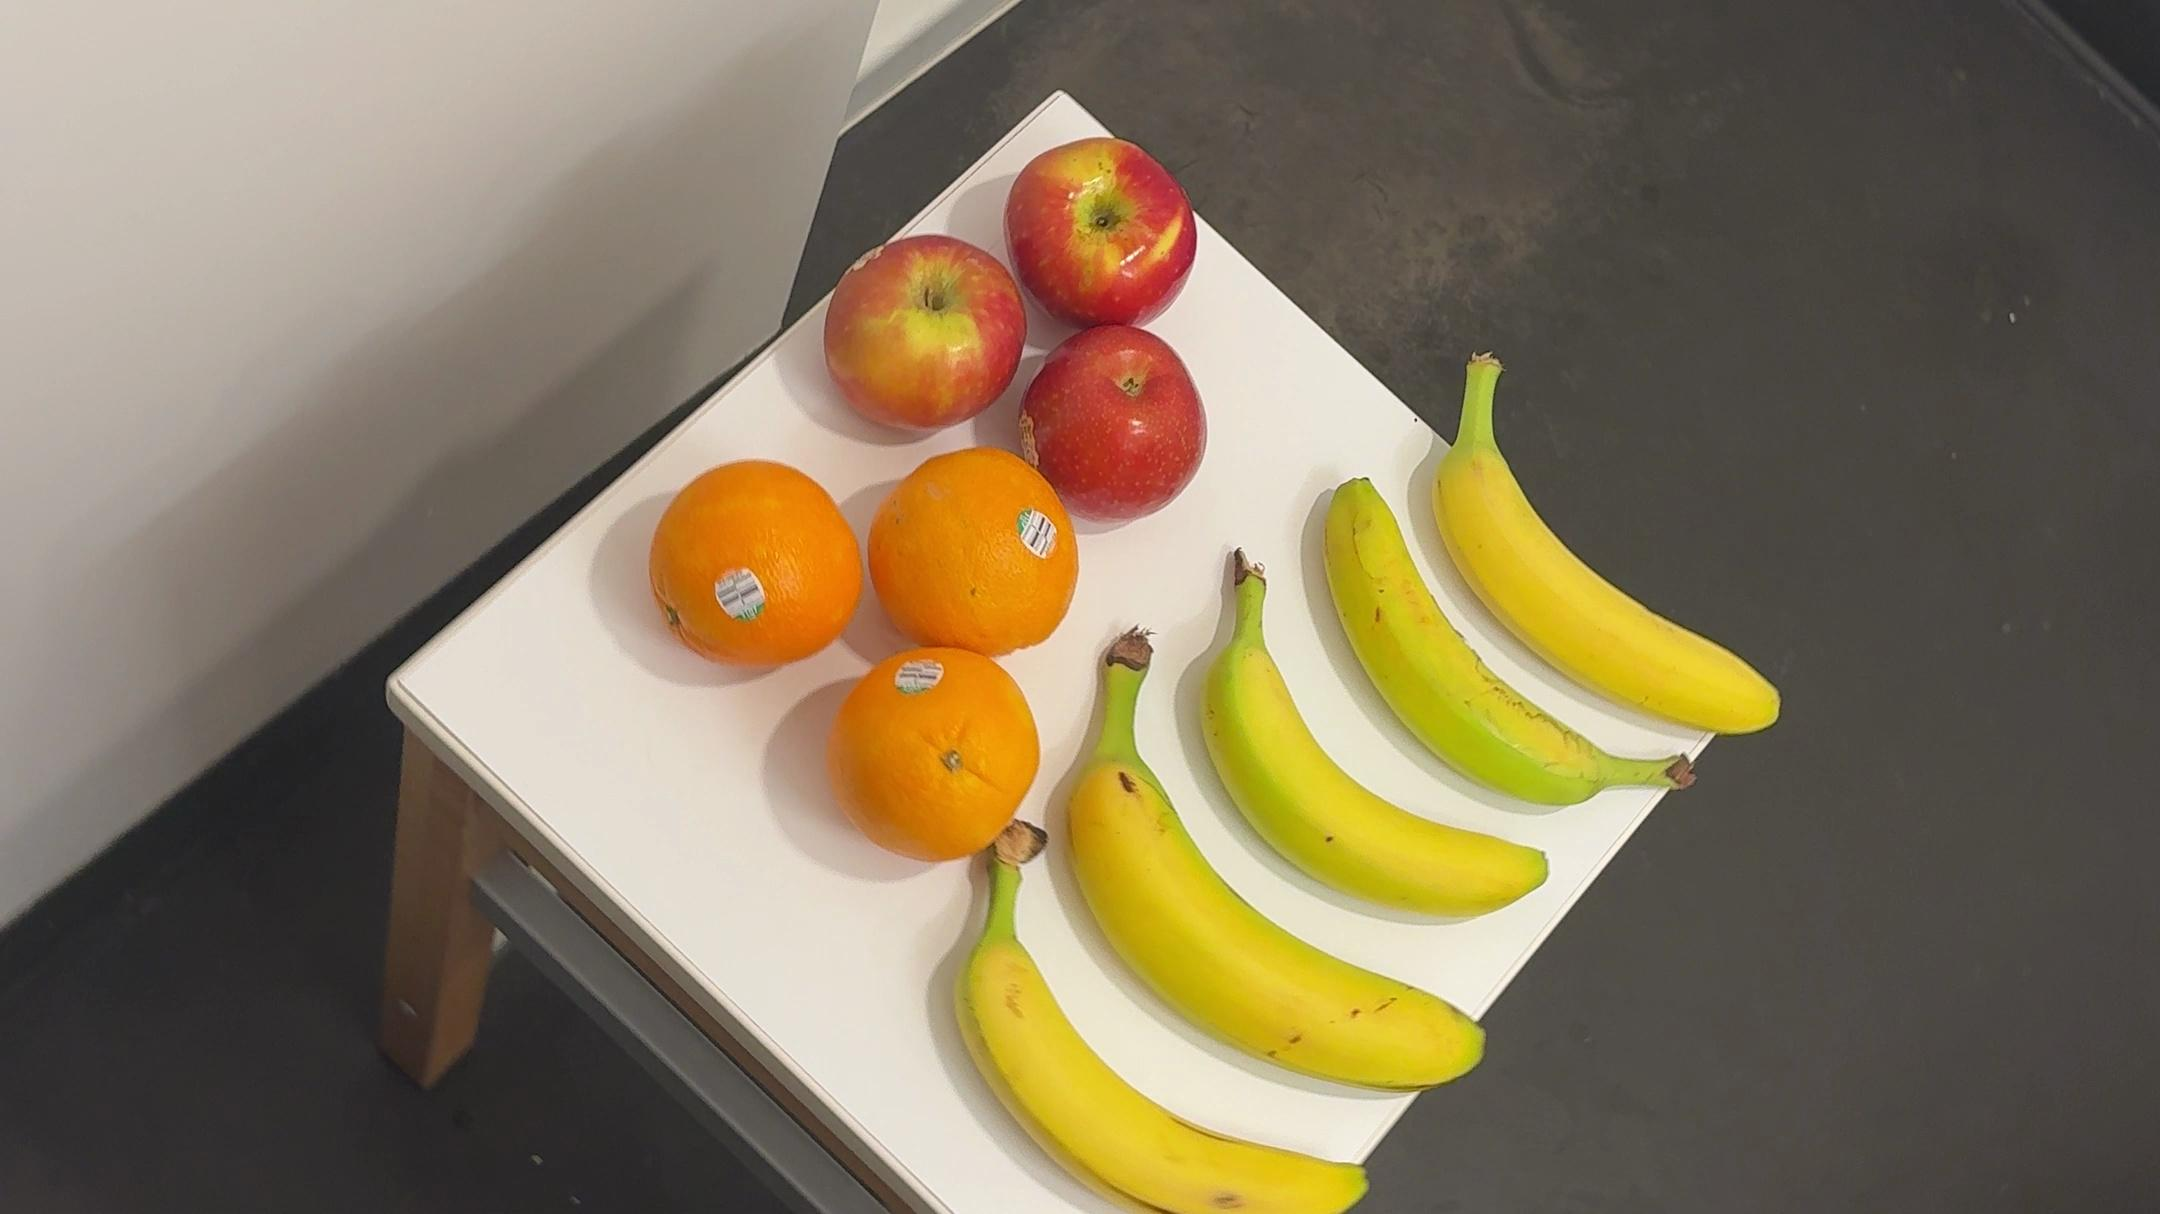apple: (811, 229, 1019, 445), (995, 141, 1218, 318), (1019, 319, 1211, 509)
banana: (1035, 631, 1501, 1095), (926, 827, 1378, 1214), (1412, 349, 1794, 747), (1179, 554, 1553, 925), (1308, 470, 1696, 810)
orange: (857, 445, 1081, 659), (819, 654, 1044, 864), (636, 451, 852, 669)
